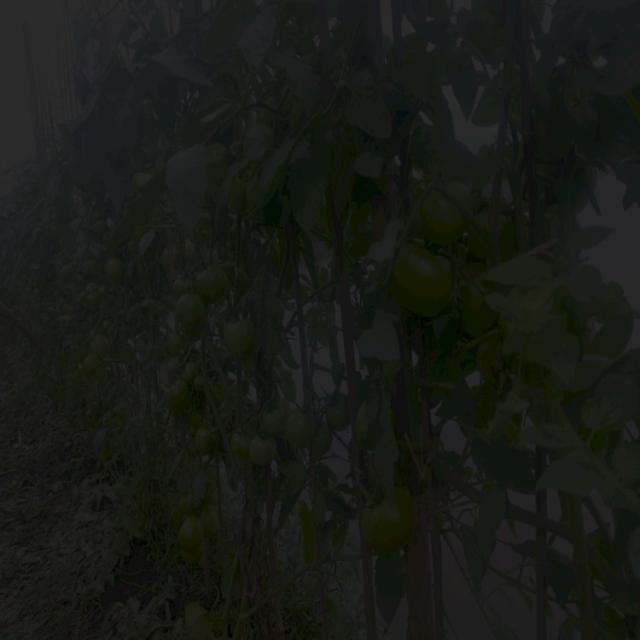tomato: (397, 239, 456, 314), (419, 184, 467, 241), (359, 498, 406, 555), (466, 194, 504, 246), (254, 432, 279, 483), (227, 316, 254, 362), (170, 296, 201, 334), (194, 262, 222, 304), (182, 600, 212, 639), (251, 215, 278, 257), (183, 515, 210, 556), (197, 429, 224, 463), (82, 357, 107, 388), (328, 391, 349, 426), (249, 118, 273, 148), (264, 398, 285, 427), (229, 429, 250, 455), (161, 384, 180, 412), (202, 494, 218, 527), (289, 410, 307, 438), (101, 254, 119, 282), (88, 287, 105, 306), (180, 361, 194, 382), (58, 263, 76, 279), (134, 167, 150, 183)
